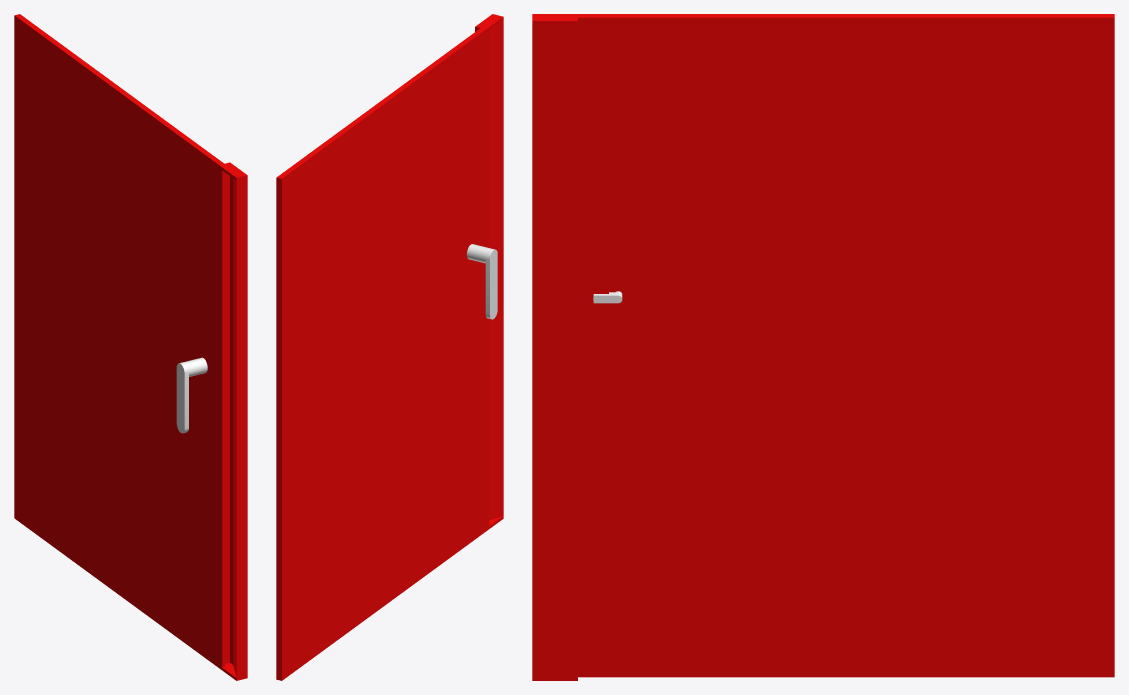
The model's file is FireCabinetDoor.dae.
3 views of the same model, side by side, from view 1: azimuth 30°, elevation 25°; view 2: azimuth 150°, elevation 25°; view 3: azimuth 270°, elevation 25° (orthographic). The views are drawn at different scales.
Visible parts, largest first — view 1: group_0, 結合; view 2: group_0, 結合; view 3: group_0.
Boxes of the visible parts, left/top/right/bottom form: group_0: left=14, top=14, right=247, bottom=680; 結合: left=176, top=357, right=207, bottom=433; group_0: left=276, top=14, right=503, bottom=680; 結合: left=467, top=244, right=497, bottom=319; group_0: left=532, top=14, right=1114, bottom=680.
Bounding box in the file's own units: 2.56 × 27.56 × 34.45.
